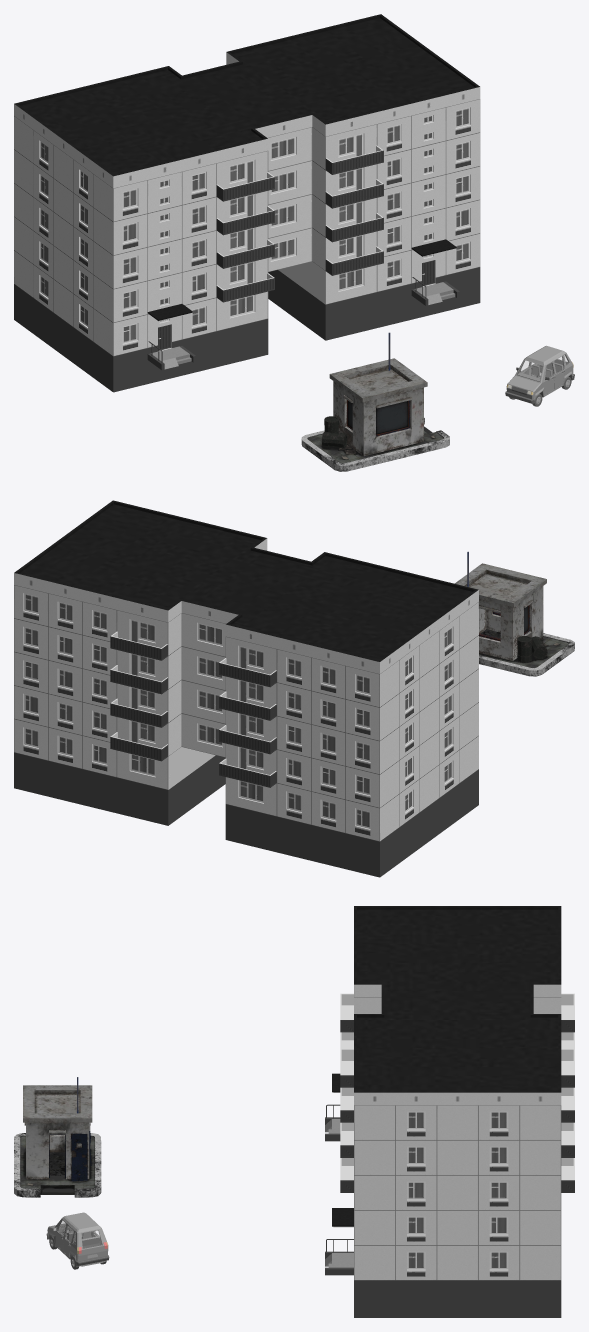
File: ian_scene_compressed2.glb
3 views of the same model, one above another, from view 1: azimuth 30°, elevation 25°; view 2: azimuth 150°, elevation 25°; view 3: azimuth 270°, elevation 25° (orthographic). The views are drawn at different scales.
Visible parts, largest first — view 1: Khrush, Cube.005, Cube.010, Chassis_Chassis_0, Cube.003, Cube.012, Cube.009; view 2: Khrush, Cube.005, Cube.010, Cube.009, Cube.012; view 3: Khrush, Cube.005, Chassis_Chassis_0, Cube.012, Cube.010, Cube.006.
Boxes of the visible parts, box(x1,y1,x2,y2) form: Khrush: box(14, 14, 480, 392); Cube.005: box(329, 358, 427, 456); Cube.010: box(301, 418, 449, 471); Chassis_Chassis_0: box(506, 345, 573, 400); Cube.003: box(348, 401, 408, 434); Cube.012: box(307, 426, 443, 463); Cube.009: box(321, 416, 347, 448); Khrush: box(14, 500, 478, 877); Cube.005: box(455, 563, 546, 660); Cube.010: box(479, 633, 574, 676); Cube.009: box(517, 636, 547, 662); Cube.012: box(479, 636, 568, 667); Khrush: box(325, 906, 574, 1317); Cube.005: box(23, 1085, 92, 1179); Chassis_Chassis_0: box(47, 1212, 108, 1266); Cube.012: box(20, 1136, 94, 1194); Cube.010: box(14, 1133, 101, 1197); Cube.006: box(49, 1133, 87, 1181).
Bounding box in the file's own units: 32 × 18 × 40.64.
25 materials, 13 textured.
